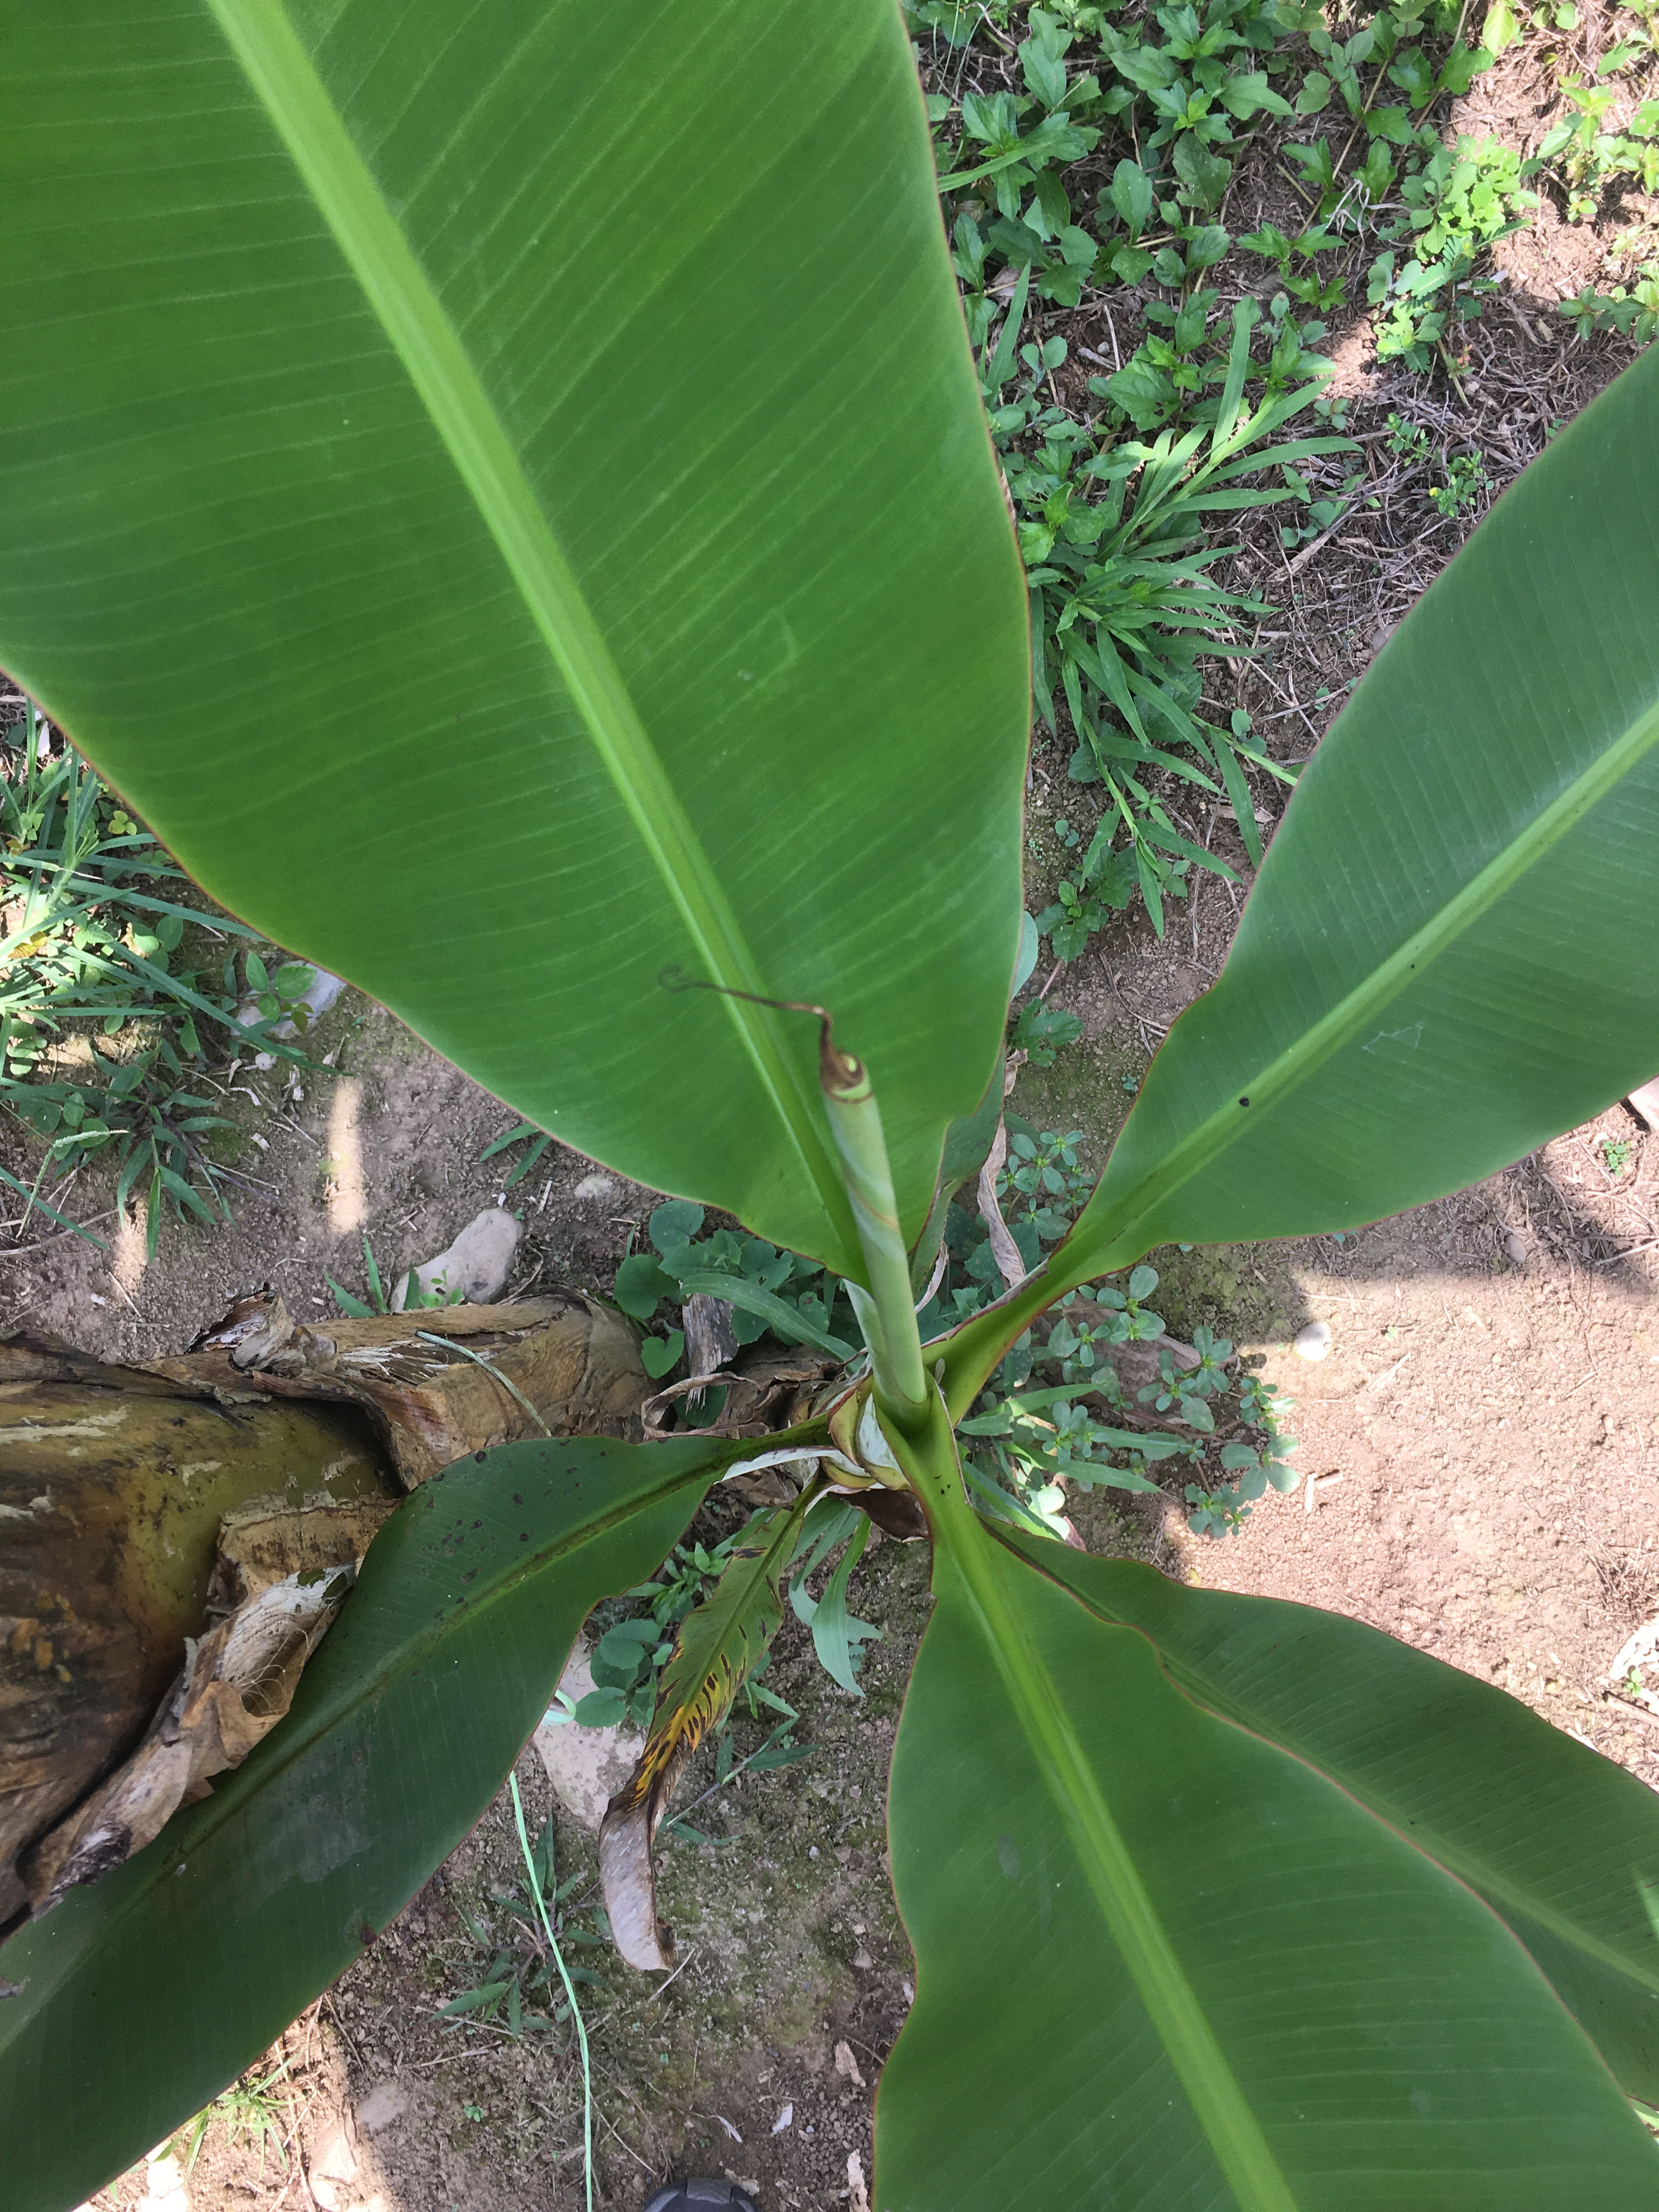candleleafs: (653, 961, 962, 1428)
